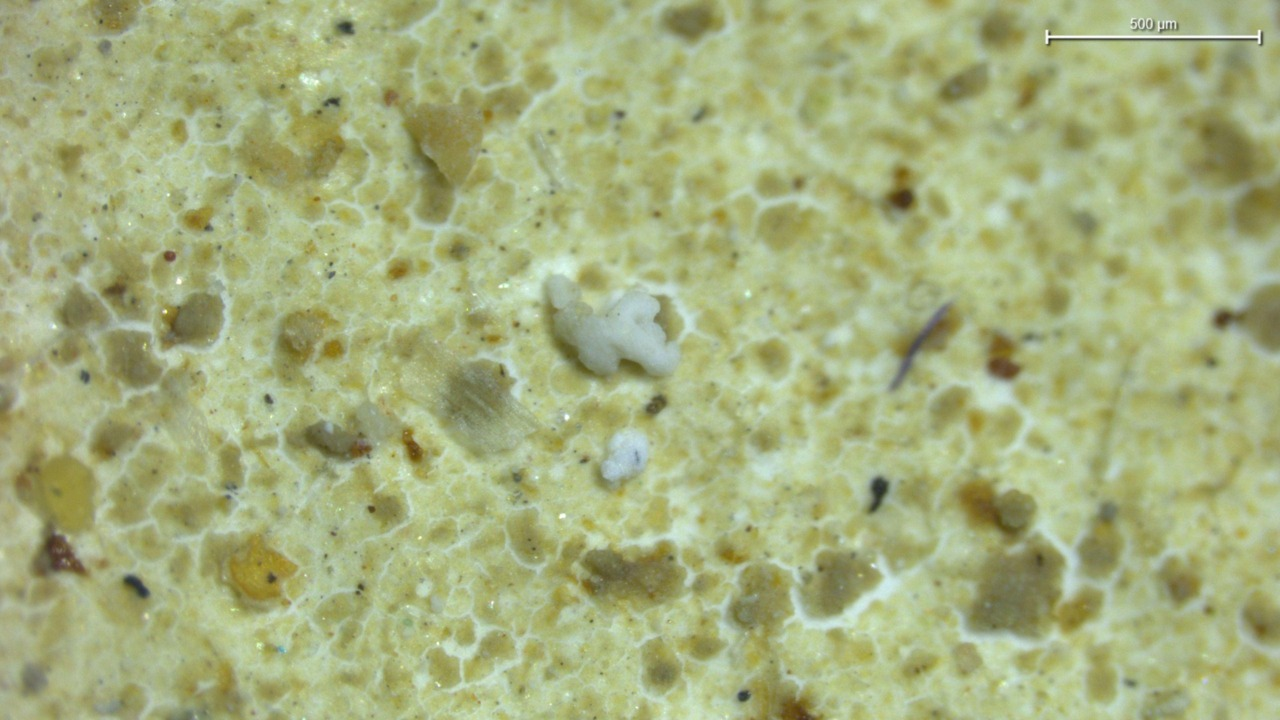microplastic_fragment: (545, 275, 679, 376), (404, 104, 483, 183), (600, 430, 648, 488)
